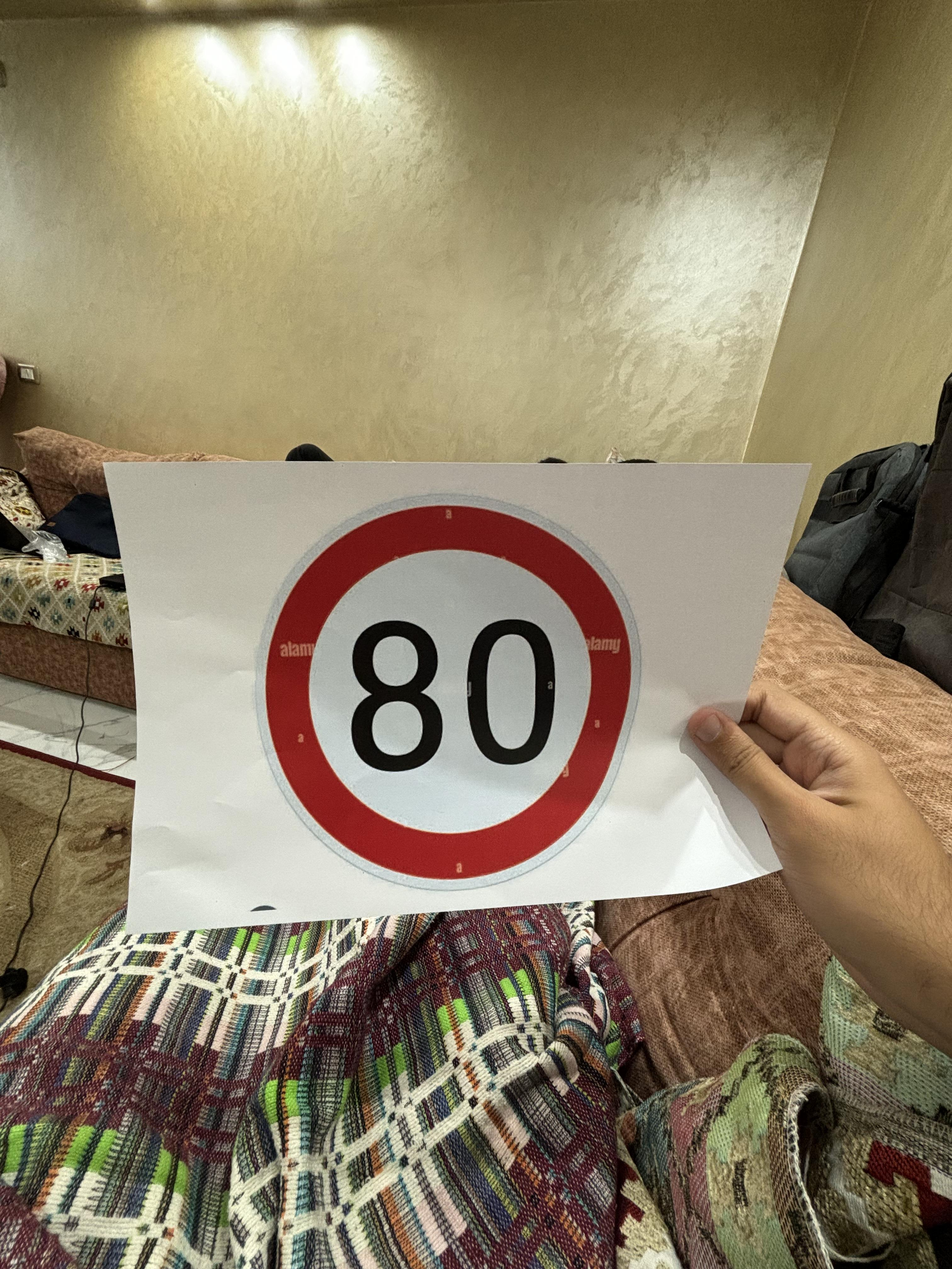80-Speed: (260, 498, 647, 890)
